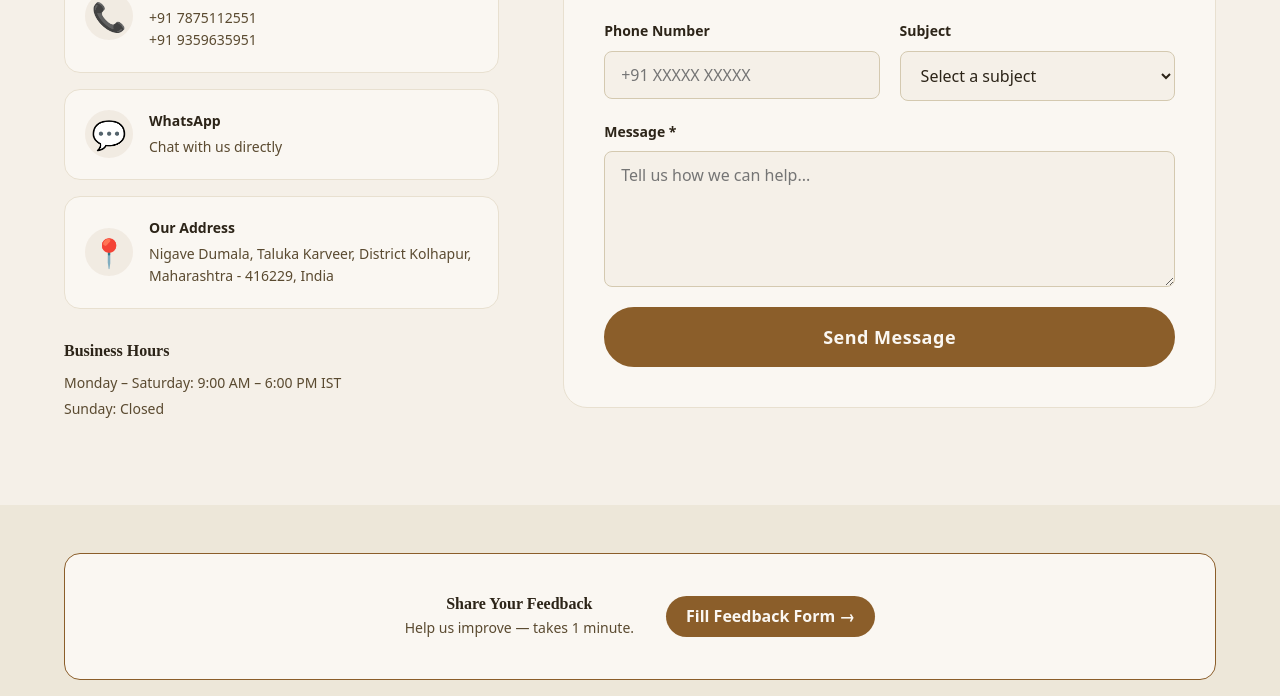
Test case: Contact Page › shows validation errors when form submitted empty
(page scrolled)
Click the button "Send Message".
click(890, 337)  # box [604, 307, 1175, 367]
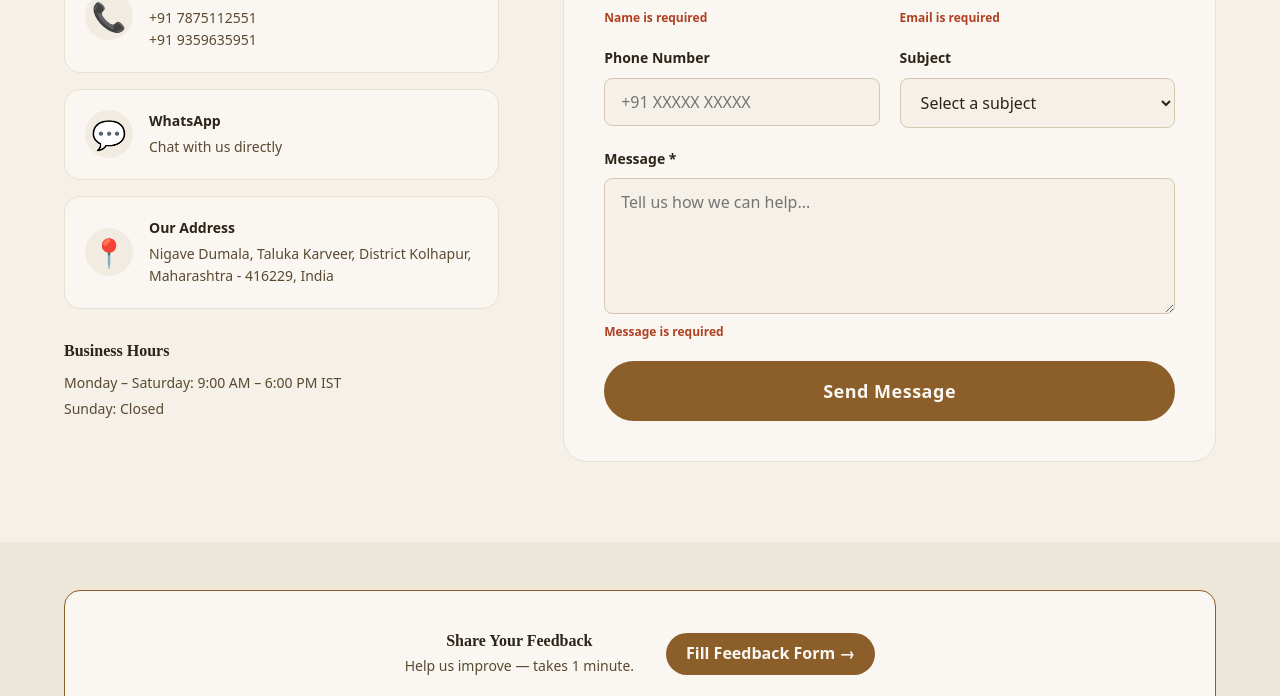
Result: the text "Name is required" is shown at [604, 9, 707, 26]
Result: the text "Email is required" is shown at [900, 9, 1000, 26]
Result: the text "Message is required" is shown at [604, 323, 724, 340]
